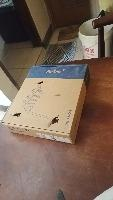damaged package: (44, 111, 62, 131), (34, 76, 45, 85), (9, 109, 20, 118)
undamaged: (0, 64, 91, 146)
